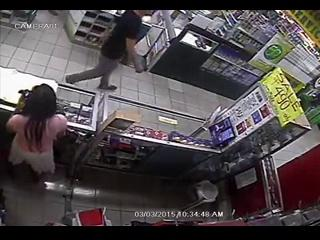Normal: (64, 10, 152, 92), (5, 84, 68, 184)
